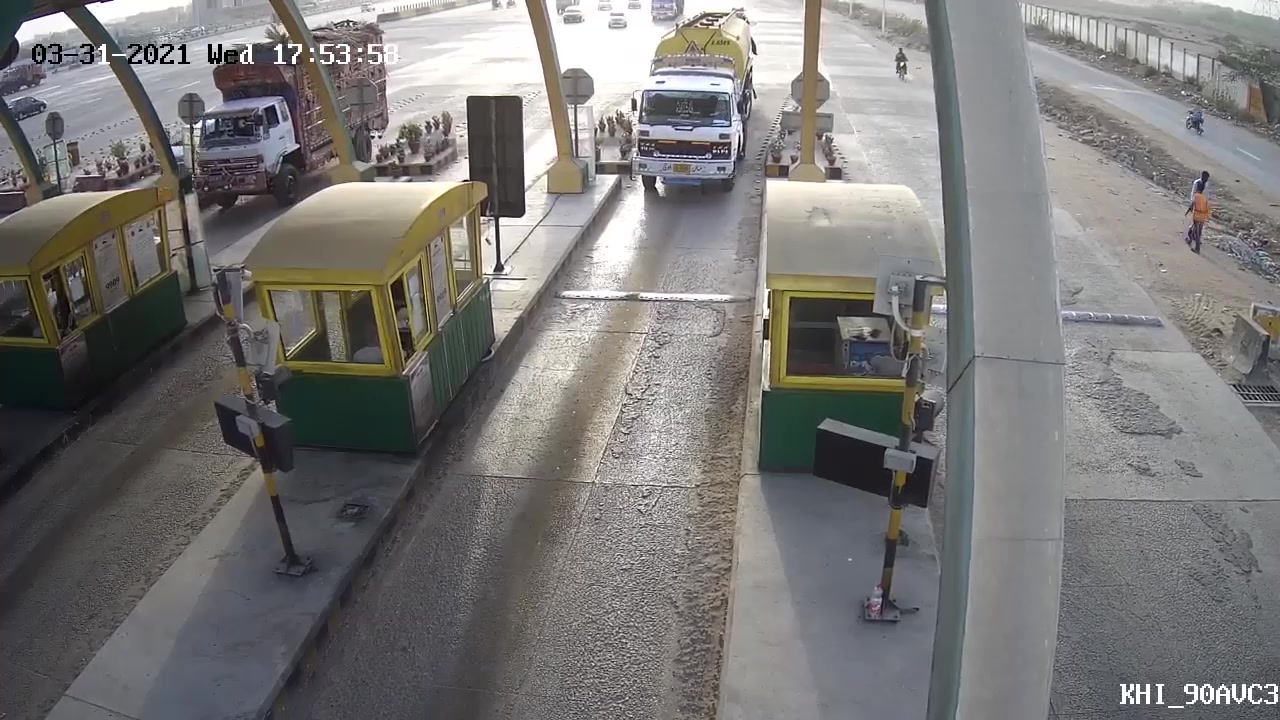F6: (612, 3, 766, 214)
